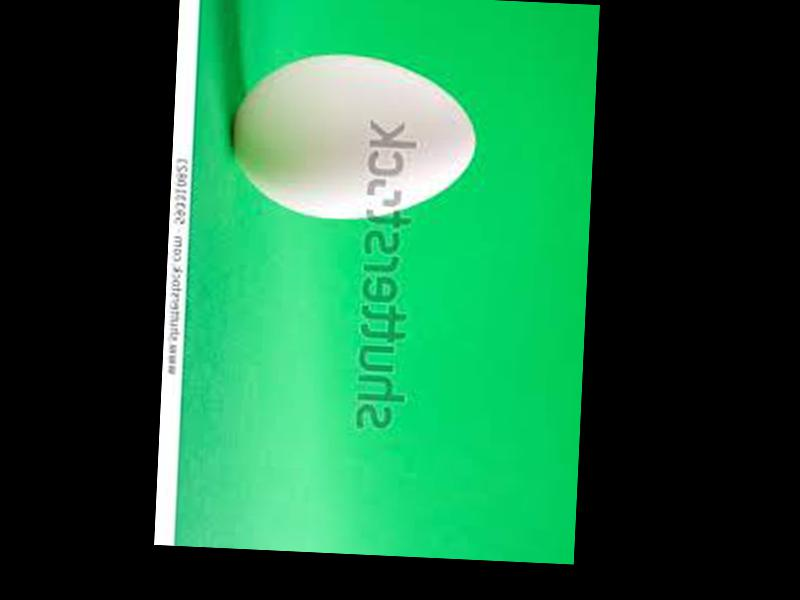Eggs: (225, 48, 478, 224)
